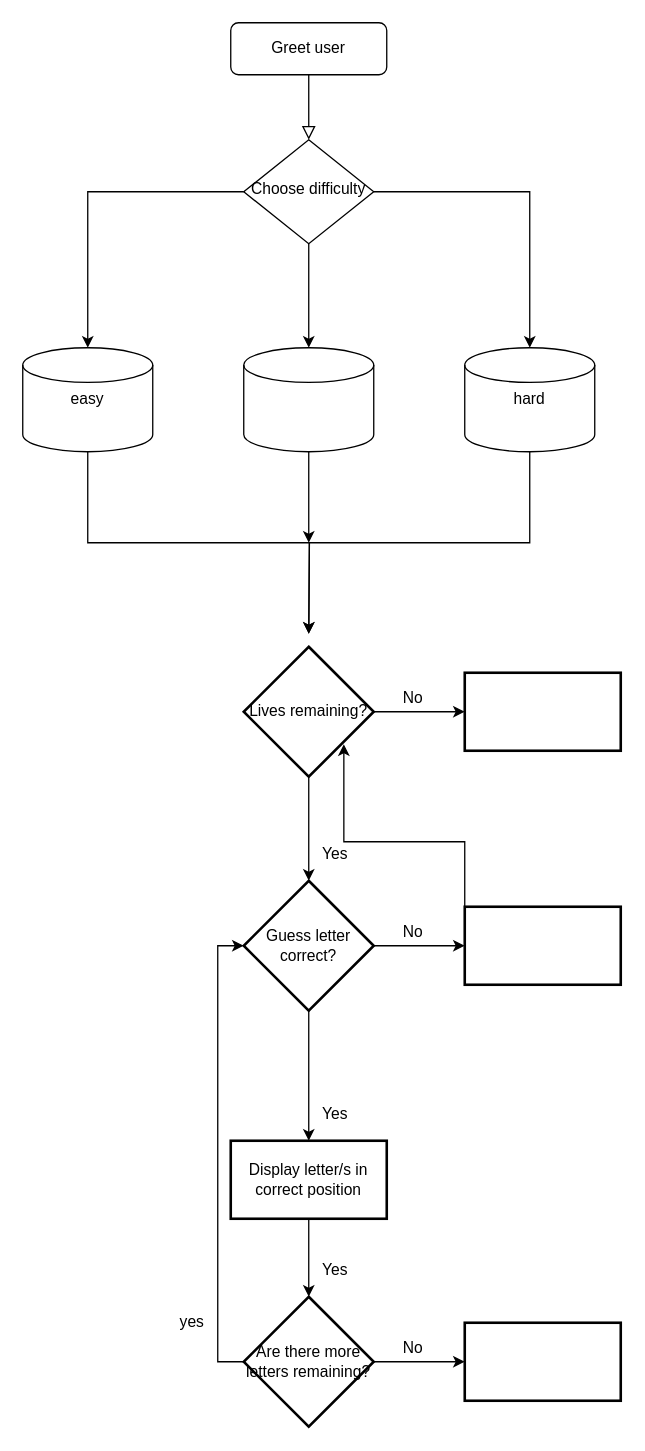
This 645x1451 diagram has some shape labels left out. Here are the shapes that lost their labels. From the top down, the centre of each, then its label:
At pixel 308 399: "medium".
At pixel 542 711: "Player Loses".
At pixel 542 945: "Lose 1 life".
At pixel 542 1361: "Player wins!".
